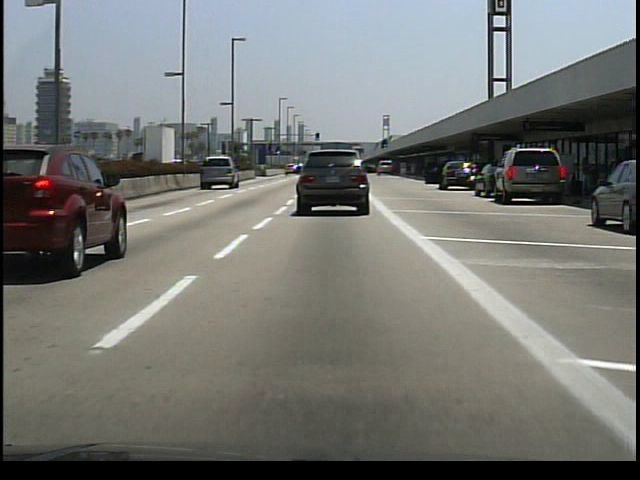person: (576, 152, 594, 202)
